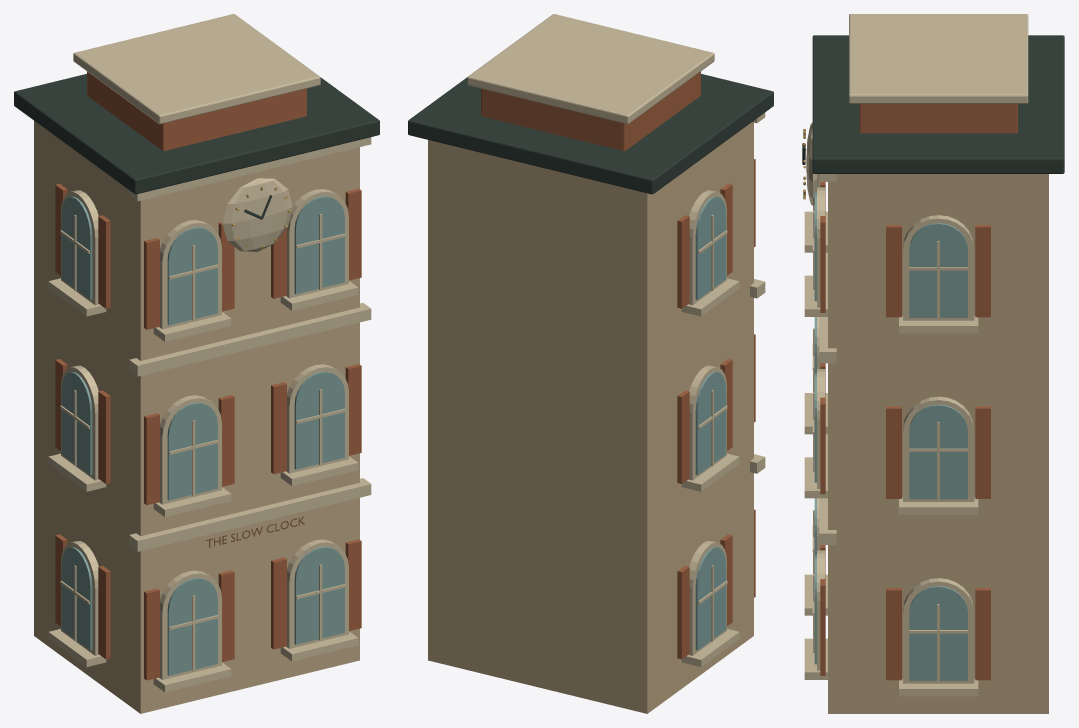
The model's file is clock-house.glb.
The picture shows the model from 3 angles, left to right: view 1: azimuth 30°, elevation 25°; view 2: azimuth 150°, elevation 25°; view 3: azimuth 270°, elevation 25°; orthographic projection. The views are drawn at different scales.
Visible parts, largest first — view 1: clock-house_Architecture_Mesh, clock-house_Roof_Mesh; view 2: clock-house_Architecture_Mesh, clock-house_Roof_Mesh; view 3: clock-house_Architecture_Mesh, clock-house_Roof_Mesh.
Part boxes in pixels (box(x1,y1,x2,y2)): clock-house_Architecture_Mesh: box(34, 121, 371, 713); clock-house_Roof_Mesh: box(14, 14, 379, 194); clock-house_Architecture_Mesh: box(428, 112, 765, 713); clock-house_Roof_Mesh: box(408, 14, 773, 194); clock-house_Architecture_Mesh: box(802, 122, 1048, 713); clock-house_Roof_Mesh: box(812, 14, 1064, 173).
Bounding box in the file's own units: 4.48 × 9.65 × 3.8.
